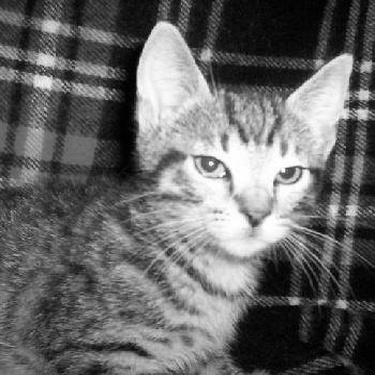cat: (1, 22, 352, 371)
